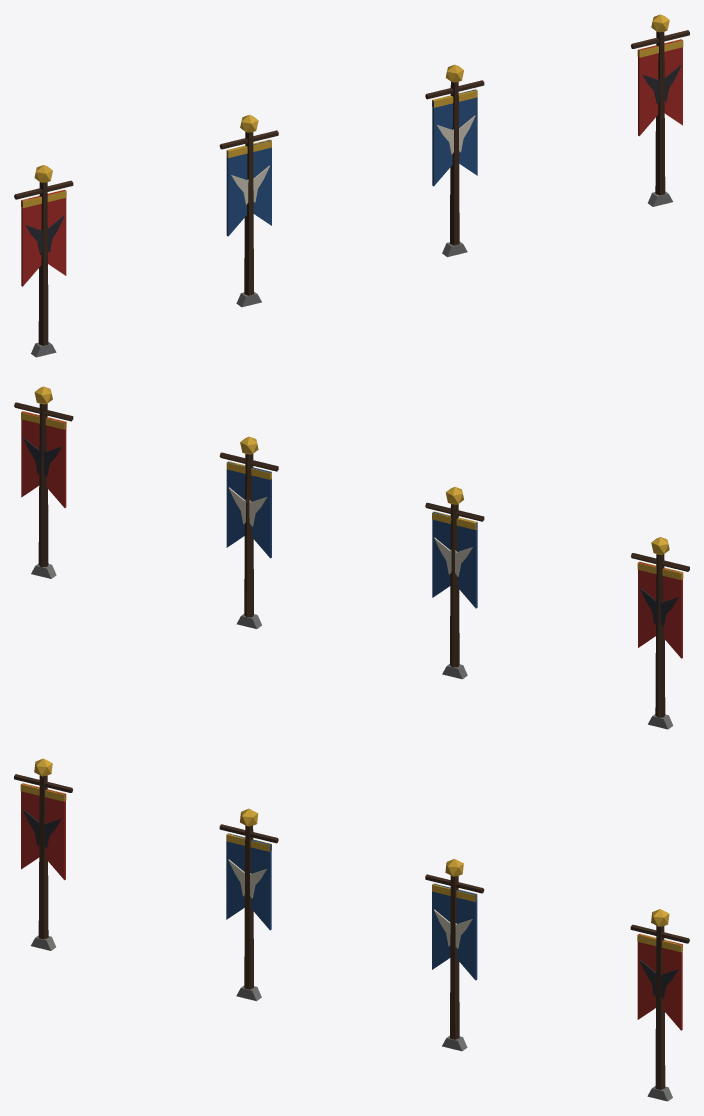
File: Decor_VikingLonghouse_Banners.fbx
3 renders of one model, top to bottom at view 1: azimuth 30°, elevation 25°; view 2: azimuth 150°, elevation 25°; view 3: azimuth 330°, elevation 25°, orthographic.
Parts seen in each view (by area): view 1: Banners_Body; view 2: Banners_Body; view 3: Banners_Body.
Boxes of the visible parts, bbox=[...] form: Banners_Body: bbox=[14, 14, 689, 357]; Banners_Body: bbox=[14, 386, 689, 729]; Banners_Body: bbox=[14, 758, 689, 1101].
Size of the model in its own units: 52.4 by 14 by 1.2.
